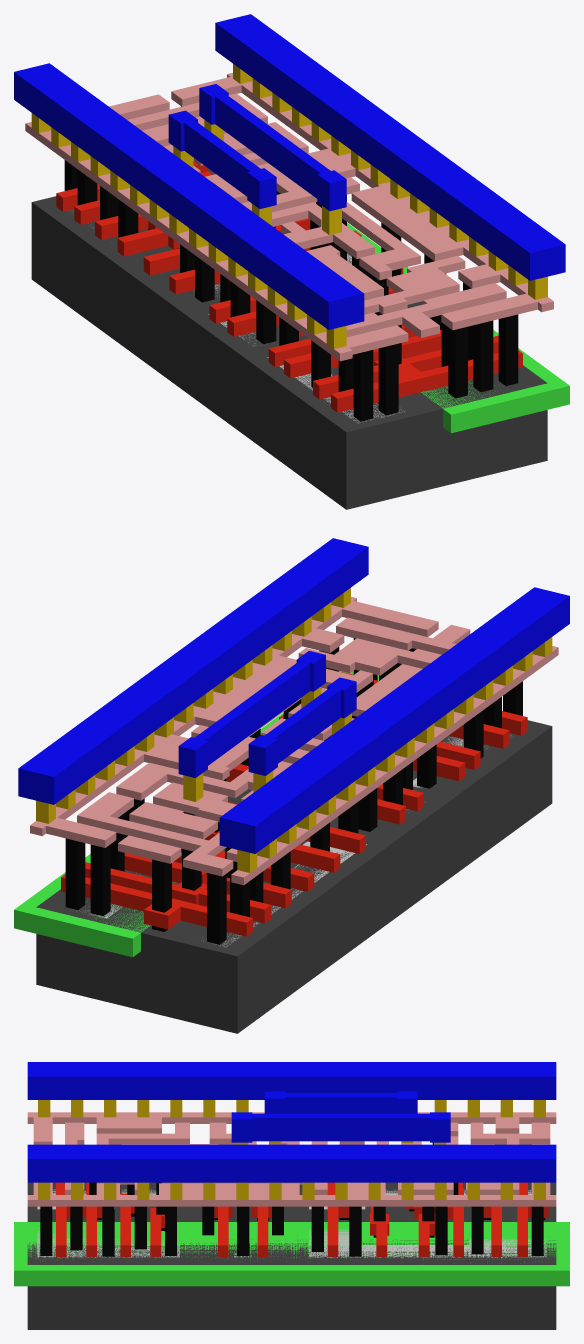
The model's file is sky130_fd_sc_hd__sdlclkp_2.obj.
3 renders of one model, top to bottom at view 1: azimuth 30°, elevation 25°; view 2: azimuth 150°, elevation 25°; view 3: azimuth 270°, elevation 25°, orthographic. The views are drawn at different scales.
Visible parts, largest first — view 1: metal1, subs, li, licon, poly, mcon, nwell; view 2: metal1, subs, li, licon, poly, mcon, nwell, diff; view 3: metal1, subs, nwell, li, licon, poly, mcon, tap.
Boxes of the visible parts, box(x1,y1,x2,y2) form: metal1: box(14, 14, 565, 329); subs: box(31, 196, 547, 509); li: box(25, 73, 553, 361); licon: box(64, 106, 518, 421); poly: box(56, 161, 522, 412); mcon: box(31, 64, 547, 348); nwell: box(315, 202, 569, 433); metal1: box(18, 538, 569, 853); subs: box(36, 720, 552, 1033); li: box(30, 597, 558, 885); licon: box(65, 638, 522, 944); poly: box(61, 672, 527, 936); mcon: box(36, 588, 552, 872); nwell: box(14, 671, 378, 957); diff: box(203, 735, 511, 947); metal1: box(27, 1062, 556, 1182); subs: box(27, 1182, 556, 1329); nwell: box(14, 1222, 569, 1286); li: box(27, 1112, 556, 1206); licon: box(40, 1142, 545, 1256); poly: box(56, 1182, 548, 1256); mcon: box(38, 1100, 545, 1199); tap: box(37, 1228, 546, 1257).
Bounding box in the file's own units: 3.2 × 2.74 × 7.74.
